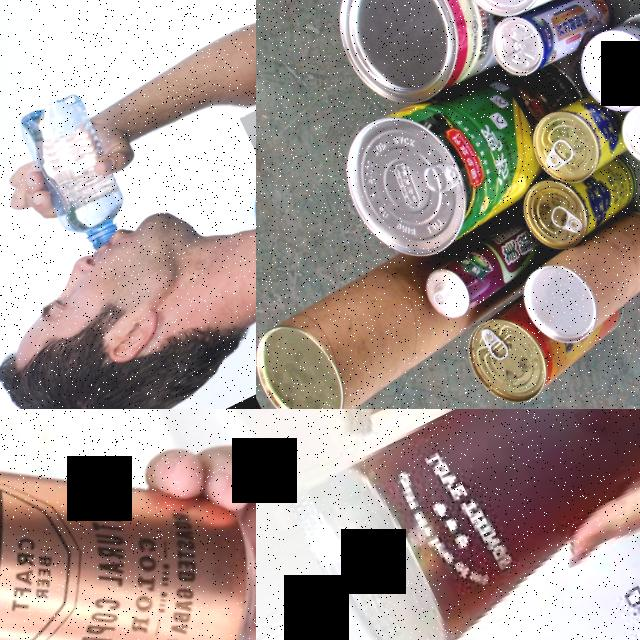bottle: (5, 87, 144, 260)
can: (0, 409, 256, 640)
cup: (275, 409, 640, 640)
